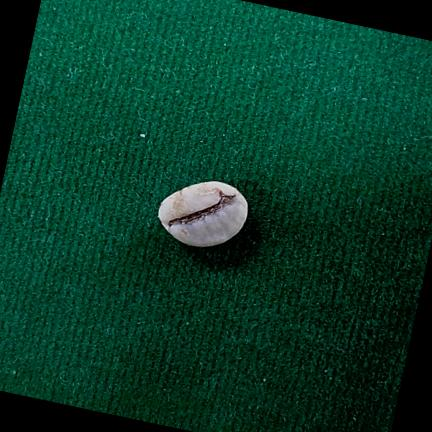immature: (158, 181, 248, 247)
